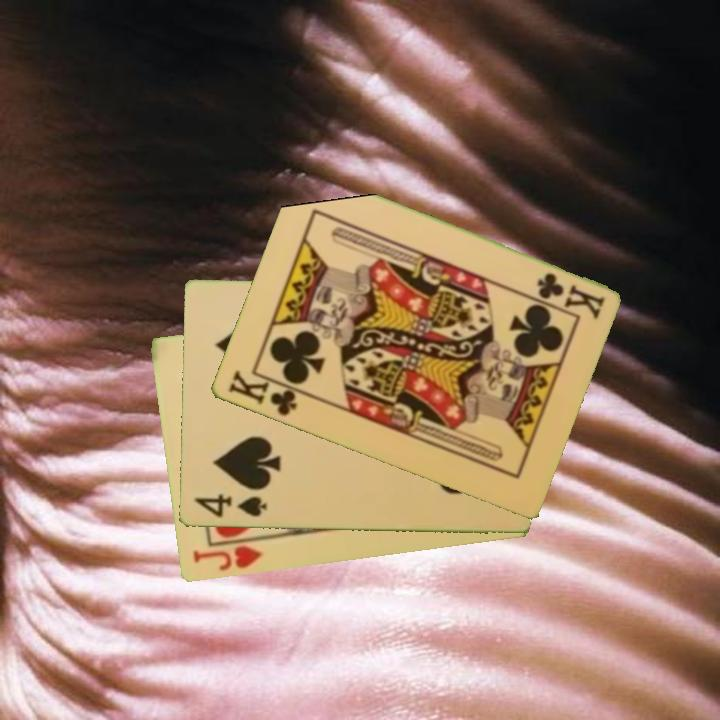4s: (190, 491, 269, 521)
Jh: (188, 542, 265, 574)
Kc: (224, 367, 308, 419), (532, 269, 608, 321)
